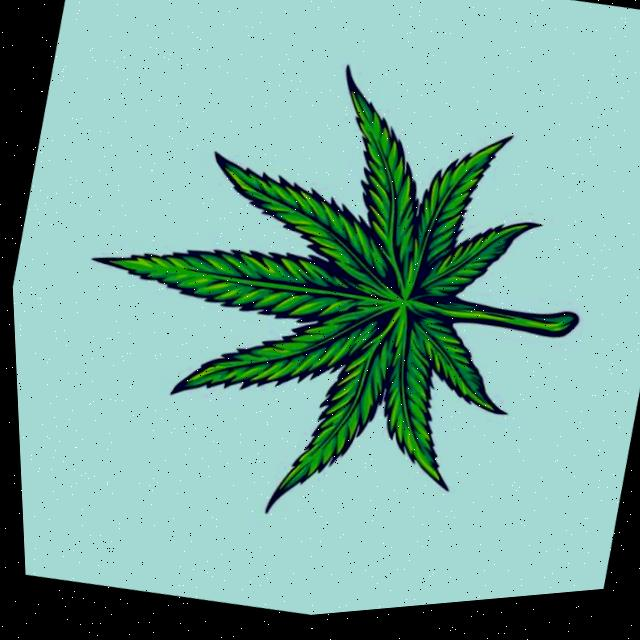cannabis: (102, 71, 581, 512)
